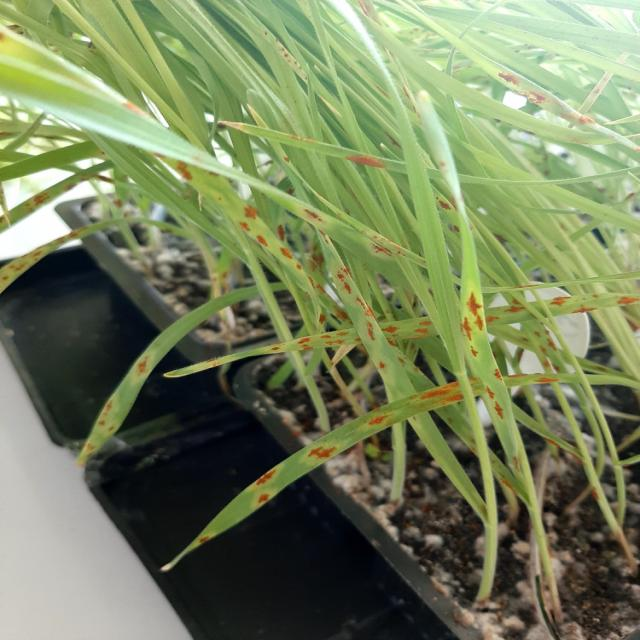wheat-stemrust: (166, 206, 463, 570), (463, 293, 556, 472), (76, 328, 180, 467), (221, 122, 387, 168), (475, 64, 591, 124), (0, 234, 78, 297), (550, 295, 640, 317)
